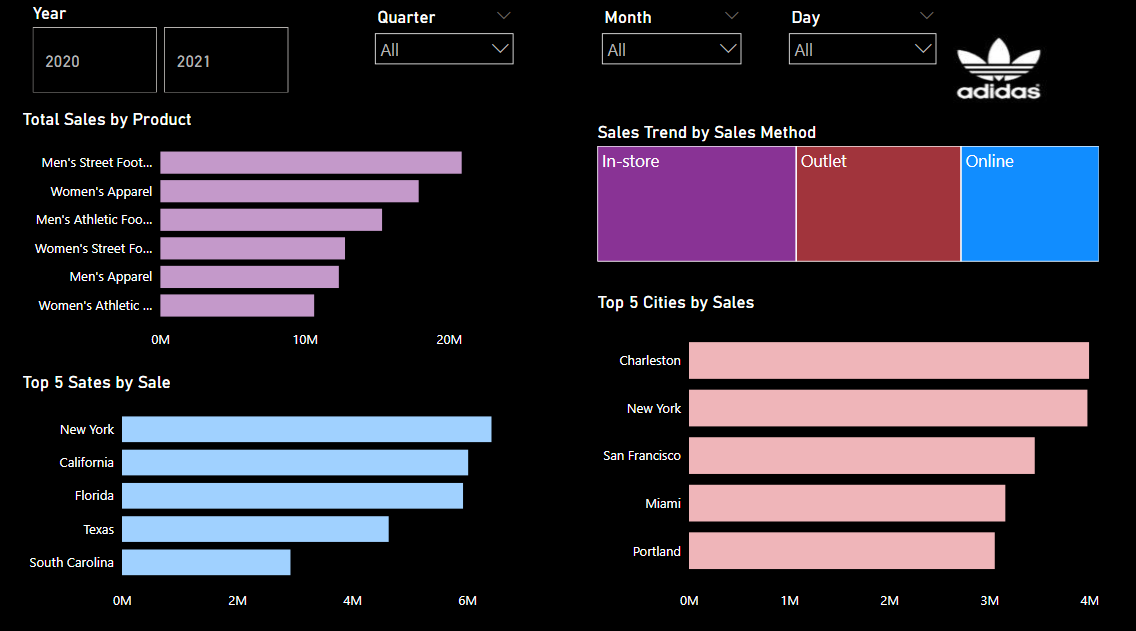

What the dashboard file says about the page in this screenshot:
{"tool":"powerbi","page":{"name":"Sales Trend over time","canvas":[1280,720],"ordinal":2},"visuals":[{"type":"advancedSlicerVisual","fields":{"Values":["Data Sales Adidas.Invoice Date.Variation.Date Hierarchy.Year"]},"box":[32.1,10.3,299.4,106.7],"z":0},{"type":"slicer","fields":{"Values":["Data Sales Adidas.Invoice Date.Variation.Date Hierarchy.Quarter"]},"box":[412.5,10.3,176.1,106.7],"z":1000},{"type":"slicer","fields":{"Values":["Data Sales Adidas.Invoice Date.Variation.Date Hierarchy.Month"]},"box":[668.3,10.3,177.3,106.7],"z":2000},{"type":"slicer","fields":{"Values":["Data Sales Adidas.Invoice Date.Variation.Date Hierarchy.Day"]},"box":[879,10.3,186.3,106.7],"z":3000},{"type":"barChart","title":"Total Sales by Product","fields":{"Category":["Data Sales Adidas.Product"],"Y":["Sum(Data Sales Adidas.Total Sales)"]},"box":[21.8,129.8,586,280.2],"z":4000},{"type":"treemap","title":"Sales Trend by Sales Method","fields":{"Values":["Sum(Data Sales Adidas.Total Sales)"],"Group":["Data Sales Adidas.Sales Method"]},"box":[668.3,143.9,574.5,161.9],"z":5000},{"type":"barChart","title":"Top 5 Sates by Sale","fields":{"Category":["Data Sales Adidas.State"],"Y":["Sum(Data Sales Adidas.Total Sales)"]},"box":[21.8,425.4,586,277.6],"z":6000},{"type":"barChart","title":"Top 5 Cities by Sales","fields":{"Category":["Data Sales Adidas.City"],"Y":["Sum(Data Sales Adidas.Total Sales)"]},"box":[668.3,335.4,574.5,367.6],"z":7000}]}

Visuals, with their boxes in screenshot pixels (x1, y1, x2, y2), scaled from the page's 1280x720 canvas onto the 1136x631 screenshot:
advancedSlicerVisual - Data Sales Adidas.Invoice Date.Variation.Date Hierarchy.Year: bbox=[28, 9, 294, 103]
slicer - Data Sales Adidas.Invoice Date.Variation.Date Hierarchy.Quarter: bbox=[366, 9, 522, 103]
slicer - Data Sales Adidas.Invoice Date.Variation.Date Hierarchy.Month: bbox=[593, 9, 750, 103]
slicer - Data Sales Adidas.Invoice Date.Variation.Date Hierarchy.Day: bbox=[780, 9, 945, 103]
"Total Sales by Product" barChart: bbox=[19, 114, 539, 359]
"Sales Trend by Sales Method" treemap: bbox=[593, 126, 1103, 268]
"Top 5 Sates by Sale" barChart: bbox=[19, 373, 539, 616]
"Top 5 Cities by Sales" barChart: bbox=[593, 294, 1103, 616]
